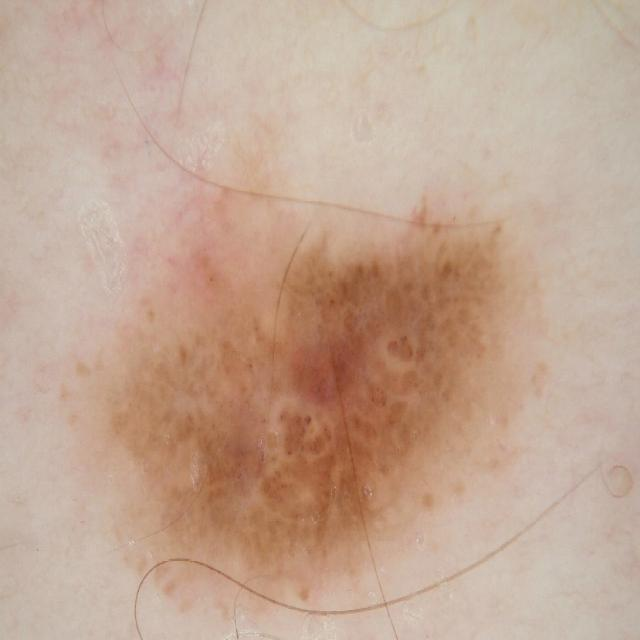Melanoma: (99, 145, 529, 637)
